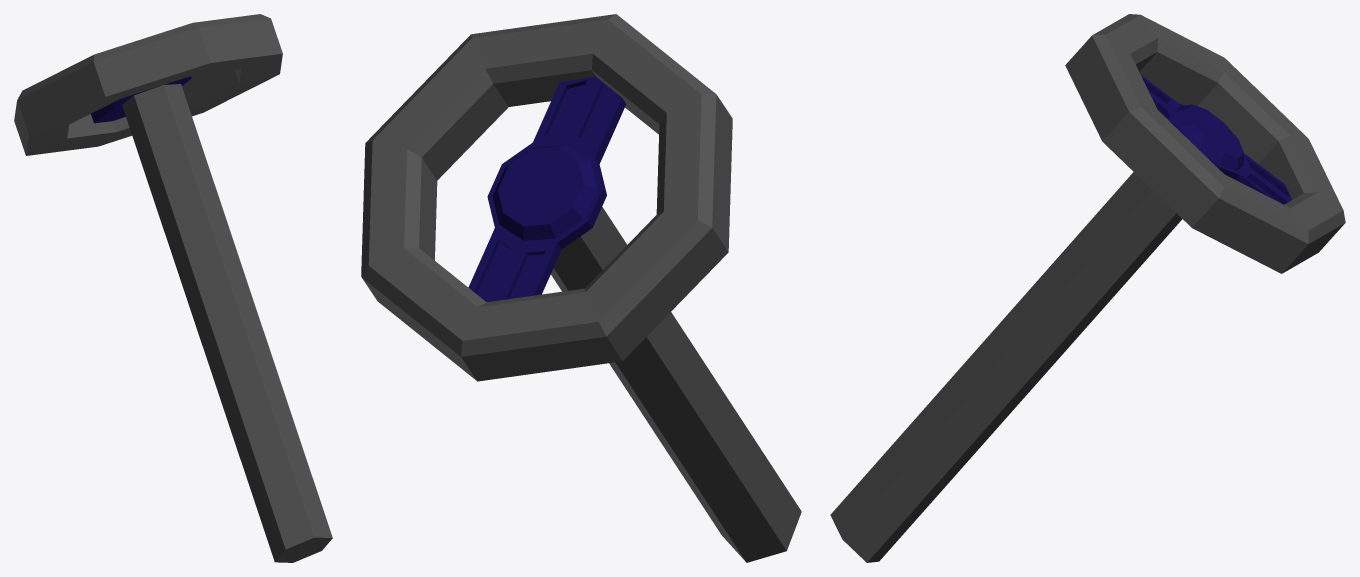
The model's file is SteeringWheel2.fbx.
The picture shows the model from 3 angles, left to right: view 1: azimuth 30°, elevation 25°; view 2: azimuth 150°, elevation 25°; view 3: azimuth 270°, elevation 25°; orthographic projection. The views are drawn at different scales.
Parts seen in each view (by area): view 1: SteeringWheel2; view 2: SteeringWheel2; view 3: SteeringWheel2.
Part boxes in pixels (x1,y1,x2,y2): SteeringWheel2: (14, 14, 332, 562); SteeringWheel2: (361, 14, 801, 562); SteeringWheel2: (830, 14, 1345, 562).
Size of the model in its own units: 200 by 355 by 315.
